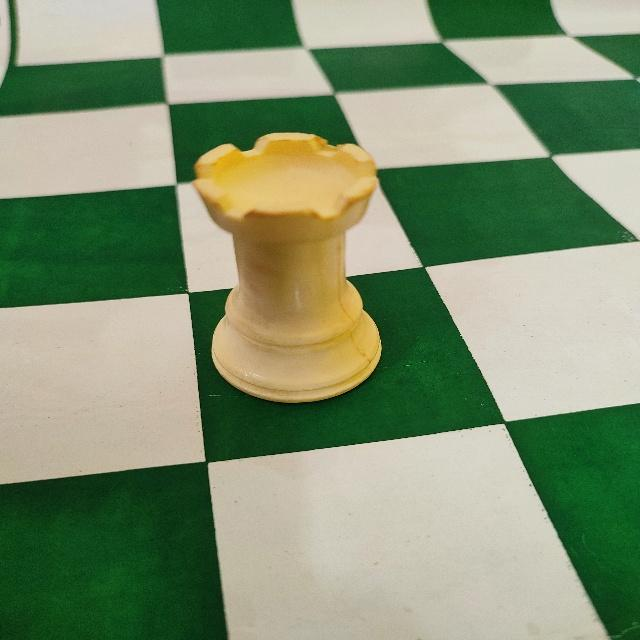Rook: (190, 128, 388, 406)
